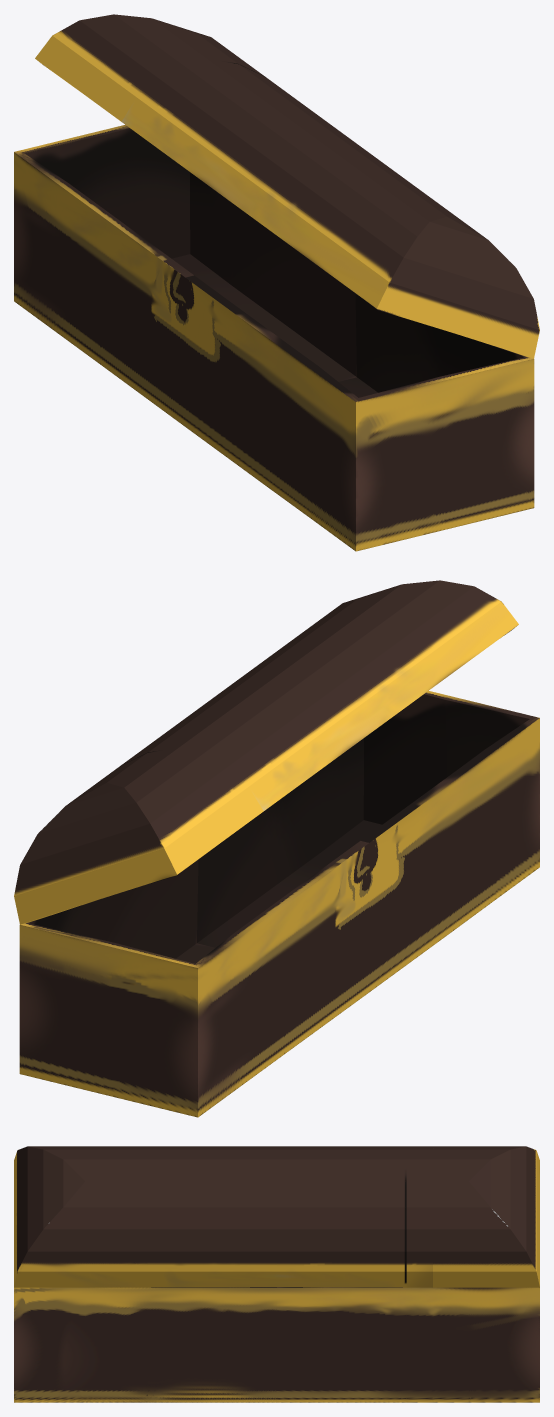
The model's file is sandıkkatmanlı.fbx.
3 renders of one model, top to bottom at view 1: azimuth 30°, elevation 25°; view 2: azimuth 150°, elevation 25°; view 3: azimuth 270°, elevation 25°, orthographic. The views are drawn at different scales.
Visible parts, largest first — view 1: Sandık, Kapak; view 2: Sandık, Kapak; view 3: Kapak, Sandık.
Part boxes in pixels (bbox=[...]): Sandık: bbox=[14, 125, 534, 551]; Kapak: bbox=[35, 14, 539, 358]; Sandık: bbox=[19, 691, 539, 1117]; Kapak: bbox=[14, 580, 518, 924]; Kapak: bbox=[14, 1146, 539, 1287]; Sandık: bbox=[14, 1287, 539, 1402].
Bounding box in the file's own units: 0.1773 × 0.2551 × 0.5617.
1 material, 1 textured.
